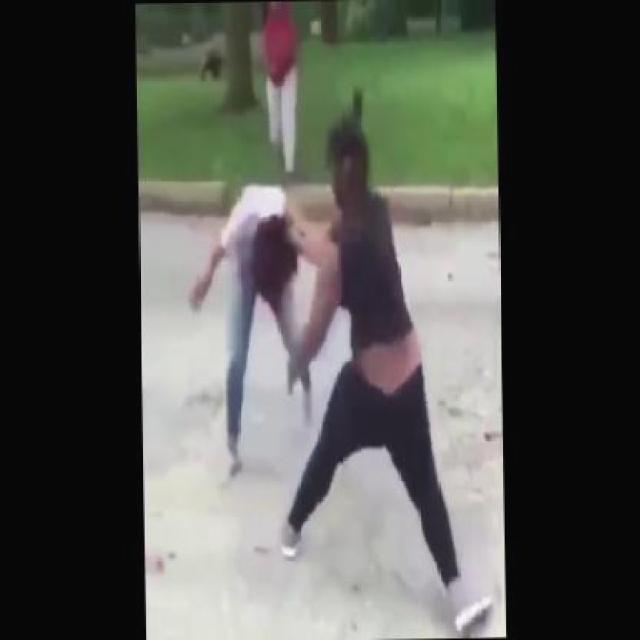fight: (198, 104, 491, 638)
